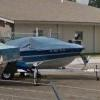Boat: (2, 27, 91, 73)
